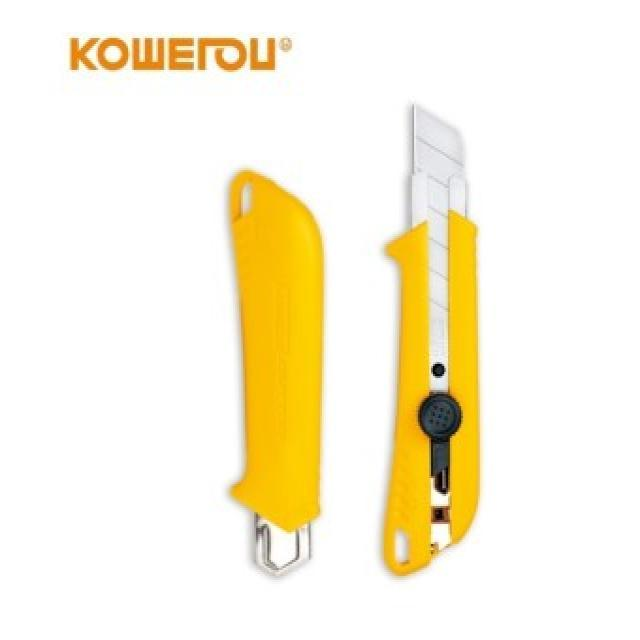cutter: (368, 102, 486, 588), (236, 170, 326, 597)
